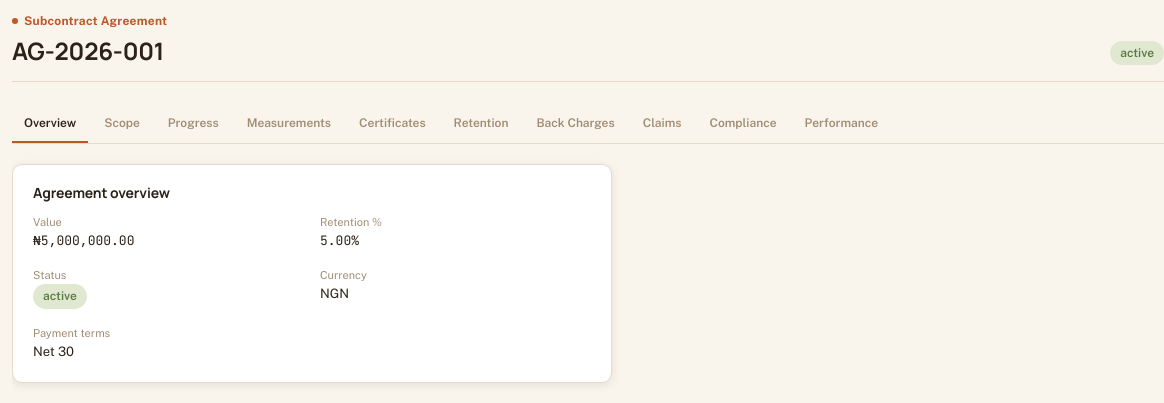
AgreementDetailPage › shows a real, honest empty state when there are no measurement sheets
expect the heading "AG-2026-001" is shown: met, box [12, 37, 167, 65]
Click the button "Measurements" at (289, 125), box [235, 106, 343, 143]
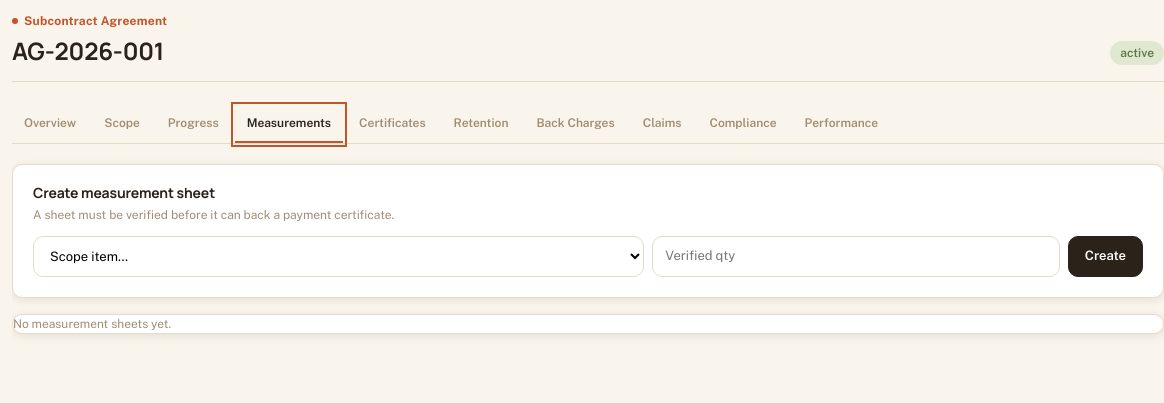
expect the text "No measurement sheets yet." is shown: met, box [13, 316, 171, 330]
